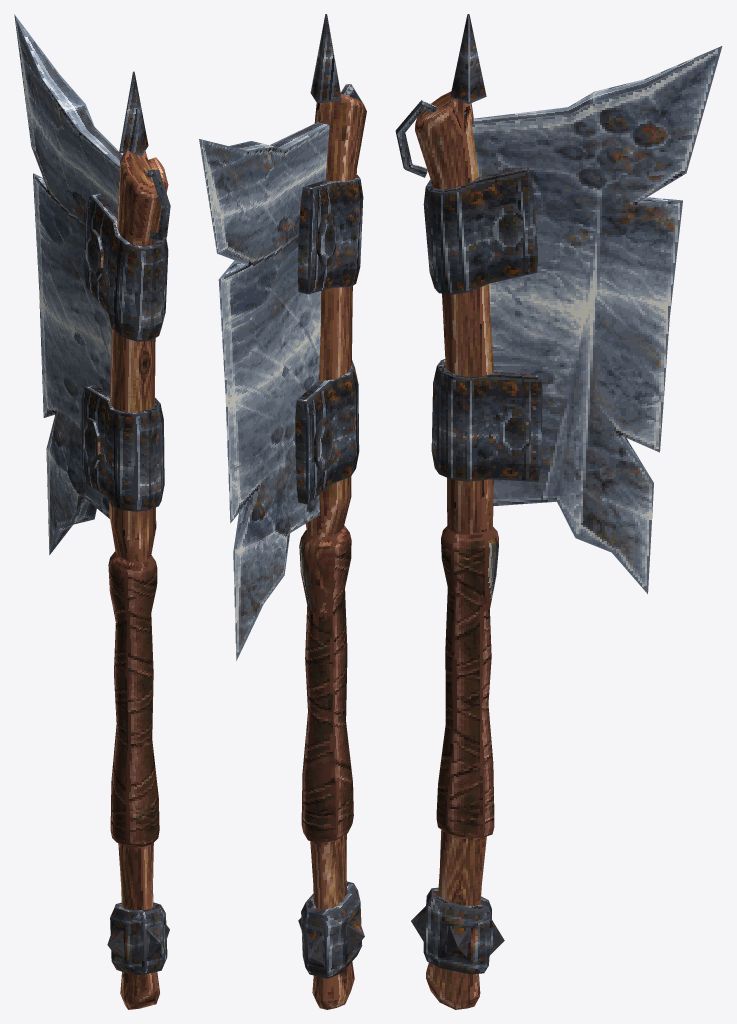
The model's file is butchers_axe.glb.
3 views of the same model, side by side, from view 1: azimuth 30°, elevation 25°; view 2: azimuth 150°, elevation 25°; view 3: azimuth 270°, elevation 25° (orthographic). The views are drawn at different scales.
Visible parts, largest first — view 1: butchers_axe; view 2: butchers_axe; view 3: butchers_axe.
Part boxes in pixels (left/top/right/bottom): butchers_axe: left=14, top=14, right=170, bottom=1009; butchers_axe: left=199, top=14, right=366, bottom=1009; butchers_axe: left=395, top=14, right=722, bottom=1009.
Bounding box in the file's own units: 0.0509 × 0.7227 × 0.2162.
Materials: 1 (1 with a texture image).
